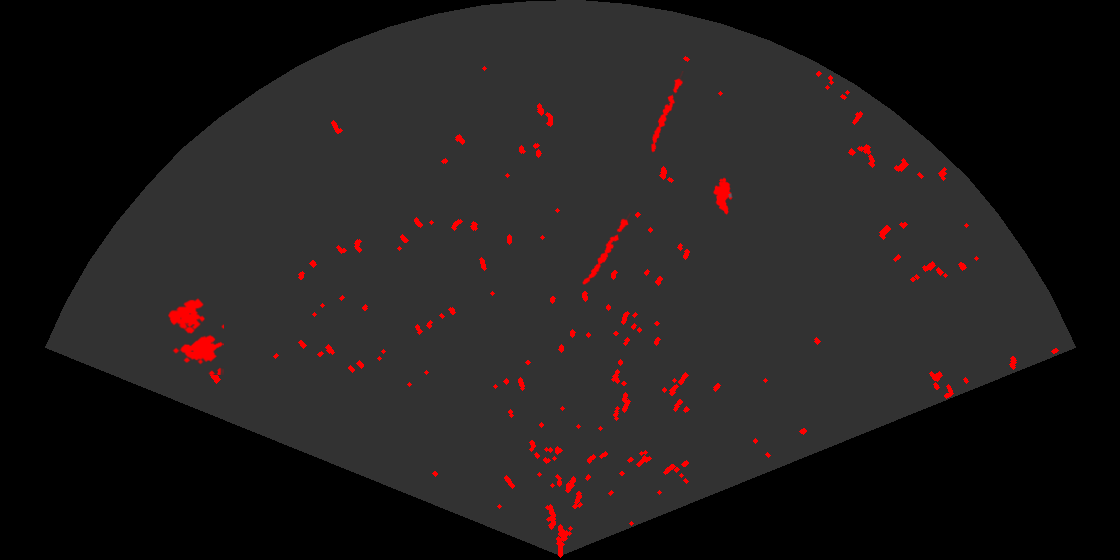AUV: (711, 176, 734, 217)
cage: (167, 297, 224, 375)
chain: (581, 213, 633, 286), (649, 71, 685, 154)
